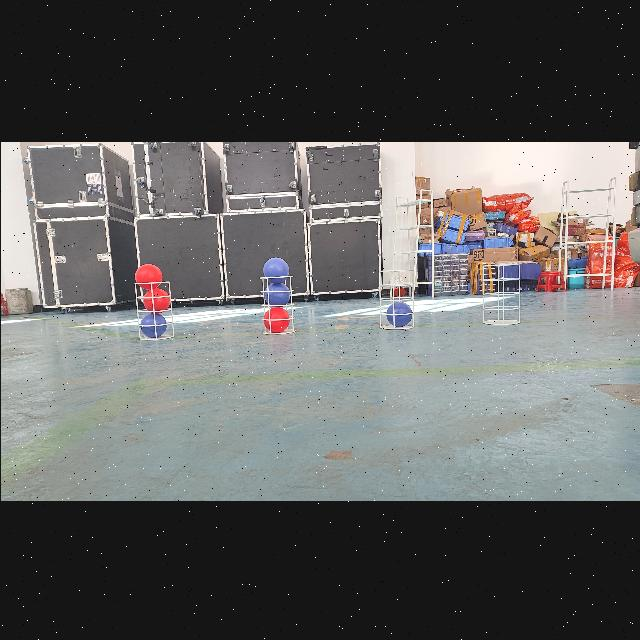B: (385, 300, 411, 326), (262, 281, 290, 305), (262, 256, 288, 280), (140, 312, 164, 336)
R: (143, 286, 169, 312), (136, 264, 164, 288), (263, 308, 291, 330)
S: (130, 276, 178, 342), (478, 260, 522, 326), (374, 265, 418, 331), (256, 272, 298, 336)
